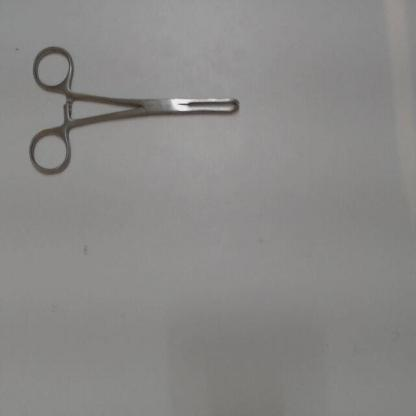Allis Tissue Forceps: (25, 37, 256, 184)
